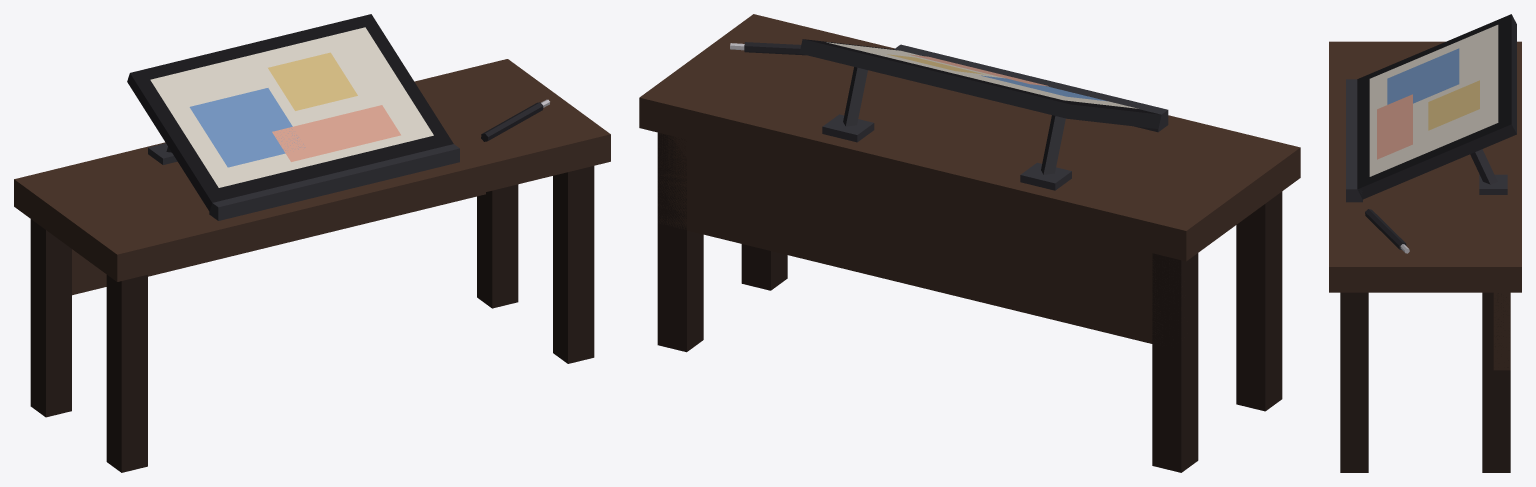
Rendered from illust_desk_tablet.fbx.
The picture shows the model from 3 angles, left to right: view 1: azimuth 30°, elevation 25°; view 2: azimuth 150°, elevation 25°; view 3: azimuth 270°, elevation 25°; orthographic projection. The views are drawn at different scales.
Parts seen in each view (by area): view 1: illust_desk_tablet; view 2: illust_desk_tablet; view 3: illust_desk_tablet.
Part boxes in pixels (x1,y1,x2,y2): illust_desk_tablet: (14,14,610,472); illust_desk_tablet: (639,14,1300,472); illust_desk_tablet: (1329,14,1521,472).
Bounding box in the file's own units: 0.94 × 0.5618 × 0.34.
